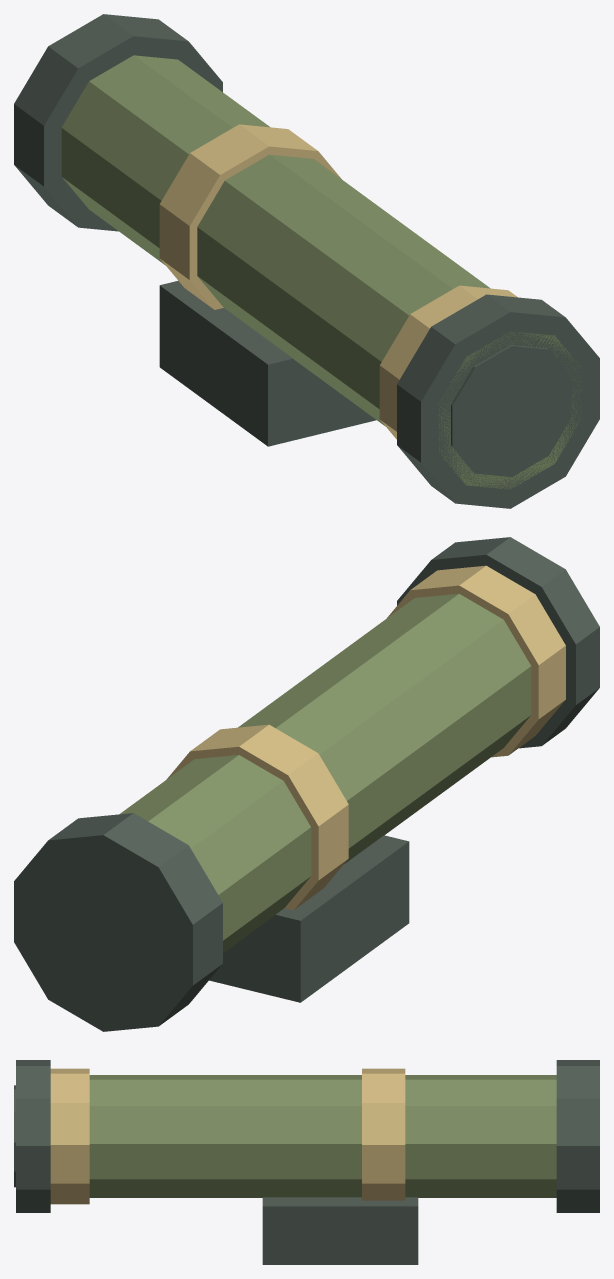
Rendered from shoulder_launcher.glb.
The picture shows the model from 3 angles, top to bottom: view 1: azimuth 30°, elevation 25°; view 2: azimuth 150°, elevation 25°; view 3: azimuth 270°, elevation 25°; orthographic projection. The views are drawn at different scales.
Parts seen in each view (by area): view 1: Launcher_tube, Launcher_muzzle_rim, Launcher_shoulder_pad, Launcher_rear_cap, Launcher_dark_bore, Launcher_reinforcing_band.001, Launcher_reinforcing_band; view 2: Launcher_tube, Launcher_rear_cap, Launcher_shoulder_pad, Launcher_muzzle_rim, Launcher_reinforcing_band.001, Launcher_reinforcing_band; view 3: Launcher_tube, Launcher_shoulder_pad, Launcher_rear_cap, Launcher_reinforcing_band.001, Launcher_reinforcing_band, Launcher_muzzle_rim.
Part boxes in pixels (x1,y1,x2,y2): Launcher_tube: [61, 55, 581, 489]; Launcher_muzzle_rim: [397, 294, 599, 508]; Launcher_shoulder_pad: [159, 280, 376, 446]; Launcher_rear_cap: [14, 14, 222, 231]; Launcher_dark_bore: [451, 345, 571, 476]; Launcher_reinforcing_band.001: [159, 124, 341, 309]; Launcher_reinforcing_band: [379, 285, 517, 439]; Launcher_tube: [120, 593, 531, 953]; Launcher_rear_cap: [14, 813, 222, 1031]; Launcher_shoulder_pad: [209, 835, 409, 1002]; Launcher_muzzle_rim: [397, 537, 599, 748]; Launcher_reinforcing_band.001: [166, 724, 348, 910]; Launcher_reinforcing_band: [387, 565, 565, 757]; Launcher_tube: [89, 1075, 556, 1197]; Launcher_shoulder_pad: [262, 1197, 418, 1264]; Launcher_rear_cap: [556, 1060, 599, 1212]; Launcher_reinforcing_band.001: [362, 1068, 405, 1200]; Launcher_reinforcing_band: [50, 1068, 89, 1204]; Launcher_muzzle_rim: [16, 1060, 50, 1212].
Bounding box in the file's own units: 0.3424 × 0.445 × 1.36.
